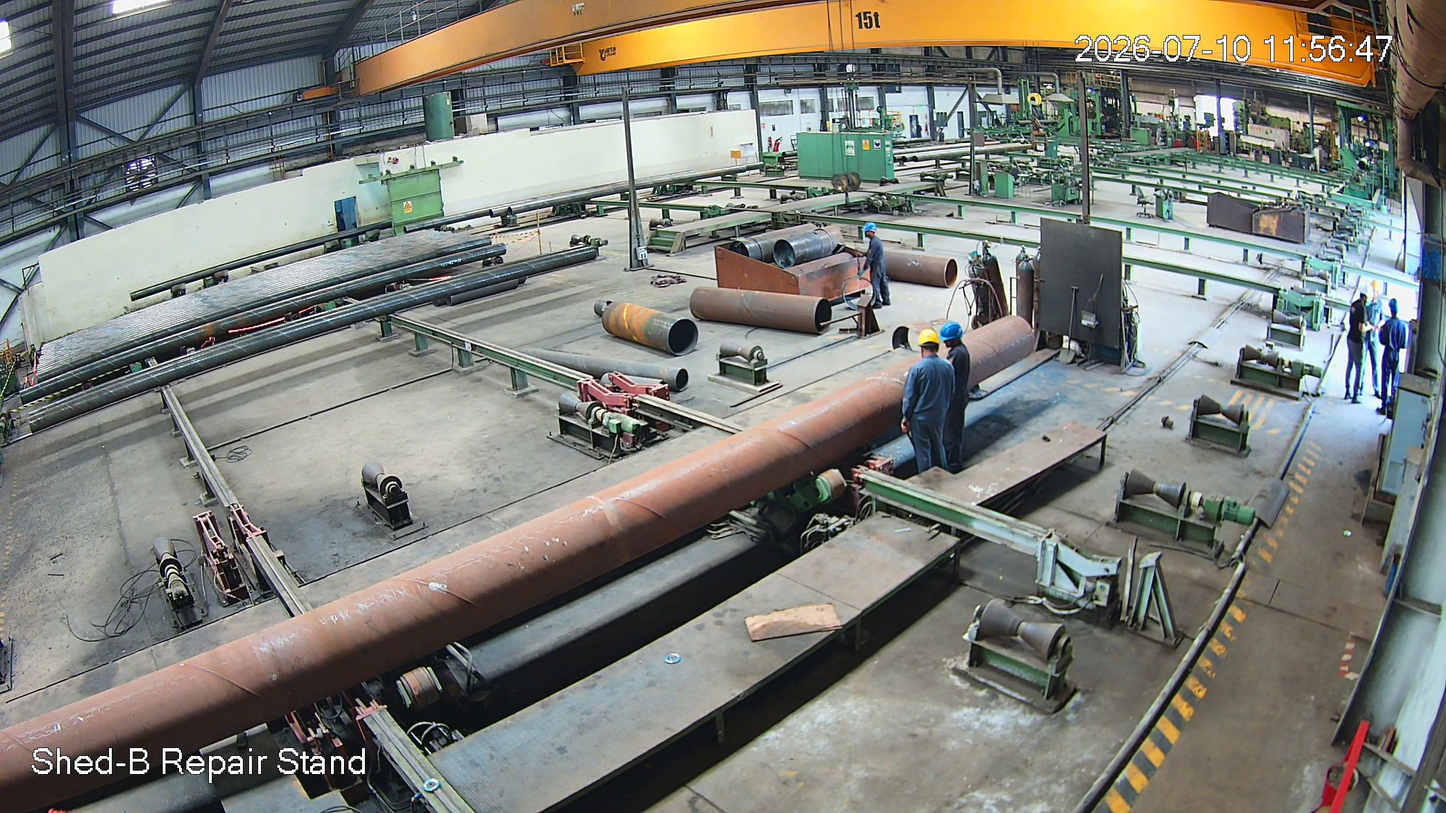Helmet: (912, 324, 946, 364), (939, 319, 968, 352), (859, 218, 882, 244), (1358, 283, 1378, 311), (1385, 294, 1404, 318)
Person: (901, 331, 957, 474), (937, 322, 984, 468), (853, 220, 904, 328), (1339, 286, 1375, 408), (1380, 296, 1405, 410)
